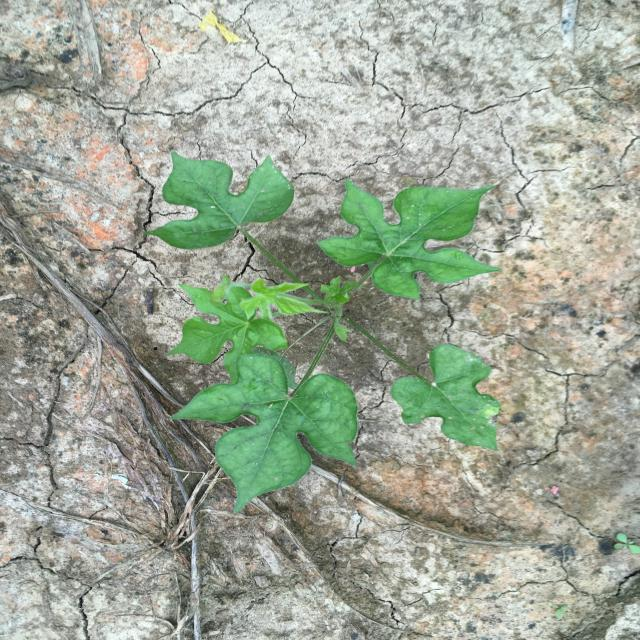MorningGlory: (142, 152, 502, 515)
